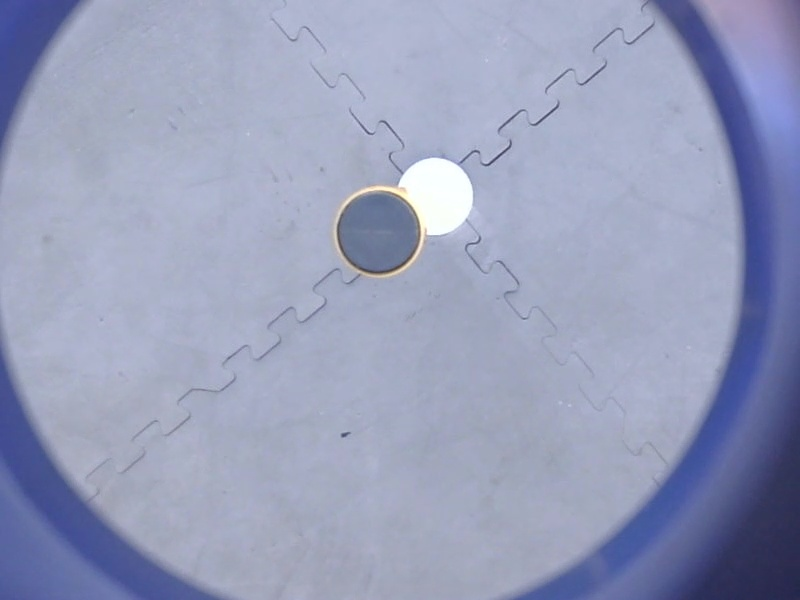tip: (329, 182, 429, 283)
